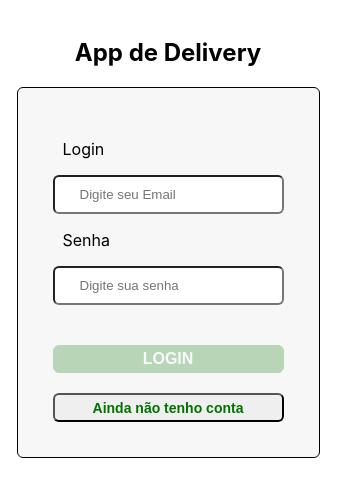
Test case: Testa a pagina de Login › Testa as verificações do login form › Testa se não é possivel fazer login com um email errado
Type "erro@erro.com" into the field with test id "common_login__input-email" at x=168, y=194, box [52,175,284,214]
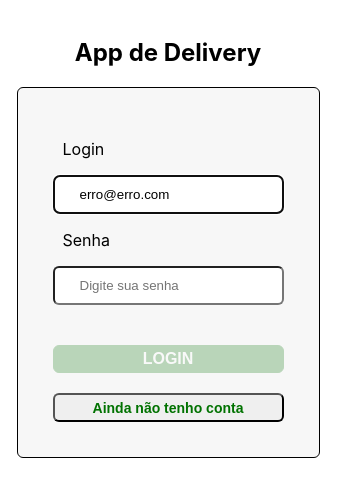
Type "$#zebirita#$" into the password field with test id "common_login__input-password" at x=168, y=285, box [52,266,284,305]
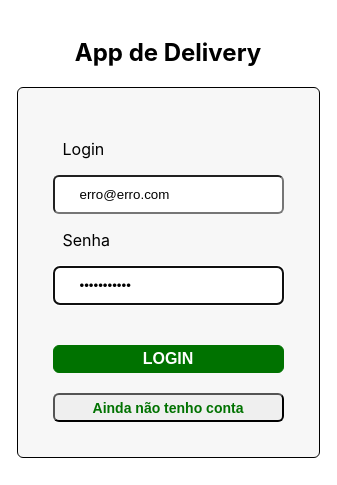
Result: the button with test id "common_login__button-login" is enabled
Click the button with test id "common_login__button-login" at x=168, y=359, box [52,345,284,373]
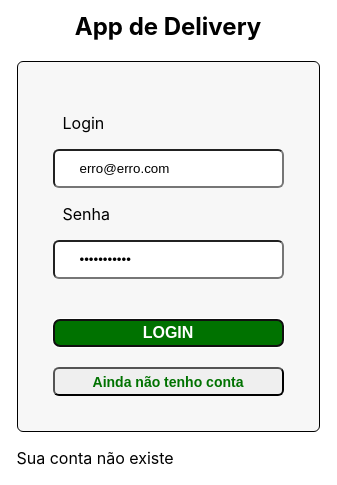
Result: the text "Sua conta não existe" is shown at [16,448,174,468]
